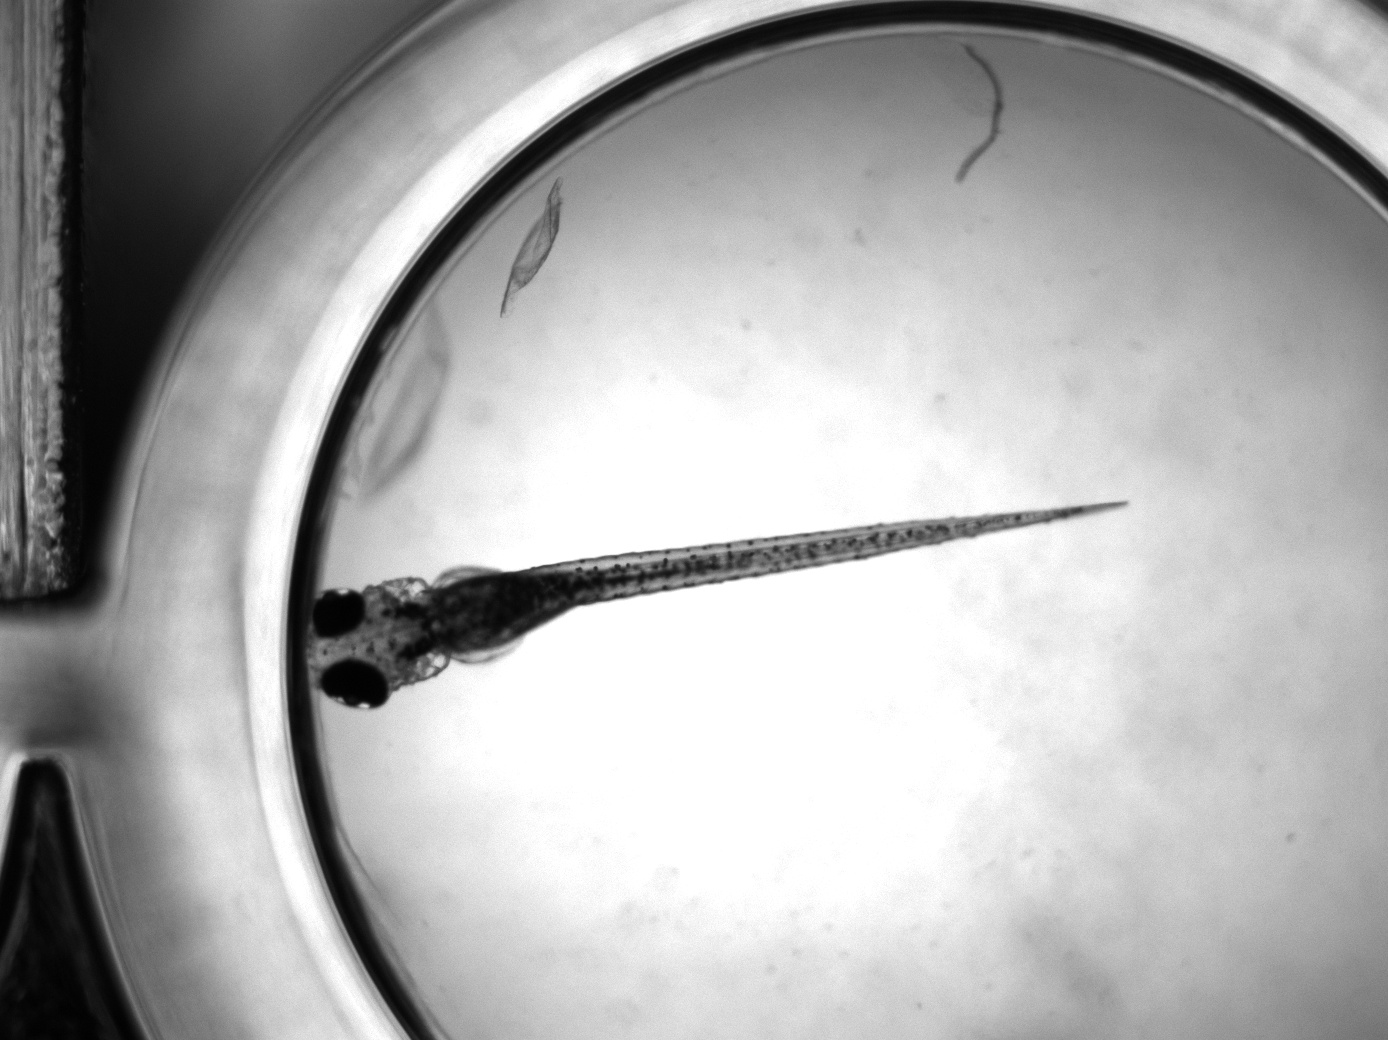embryo: (302, 498, 1131, 709)
eye: (318, 657, 389, 708), (309, 586, 368, 640)
yolksac: (425, 567, 580, 655)
